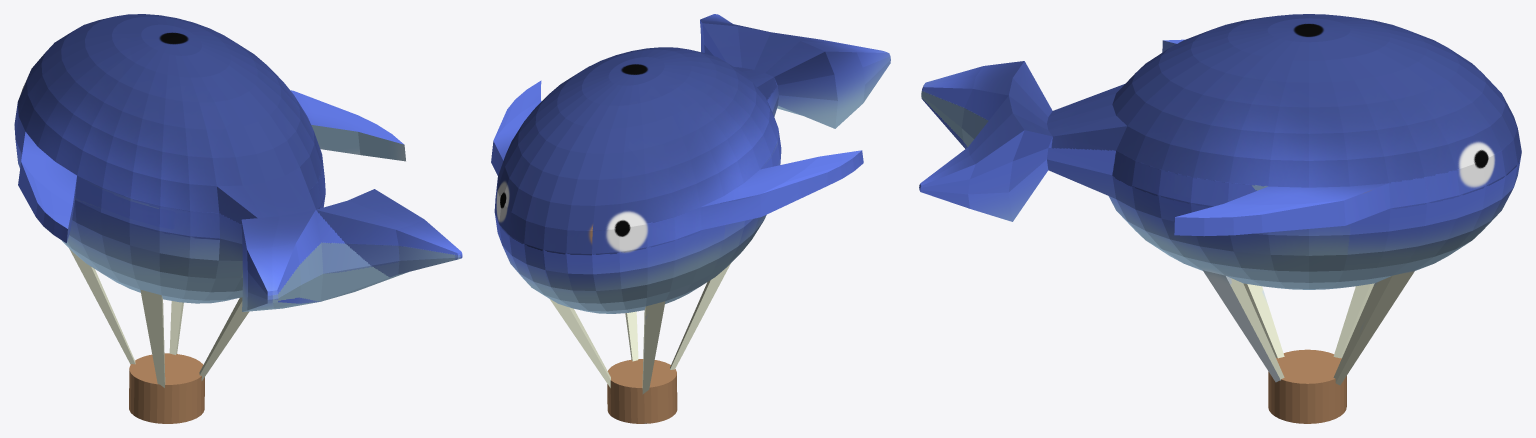
The model's file is aerostatico.fbx.
3 renders of one model, left to right at view 1: azimuth 30°, elevation 25°; view 2: azimuth 150°, elevation 25°; view 3: azimuth 270°, elevation 25°, orthographic. The views are drawn at different scales.
Visible parts, largest first — view 1: Sphere; view 2: Sphere; view 3: Sphere.
Part boxes in pixels (left/top/right/bottom): Sphere: left=14, top=14, right=462, bottom=423; Sphere: left=491, top=14, right=890, bottom=423; Sphere: left=919, top=14, right=1521, bottom=423.
Size of the model in its own units: 232 by 234 by 335.
1 material, 1 textured.
